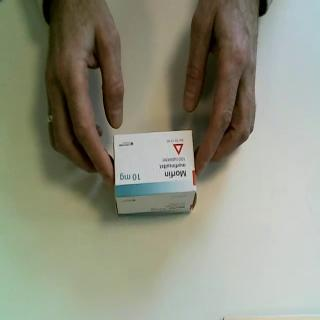morfin10mg: (113, 130, 198, 218)
